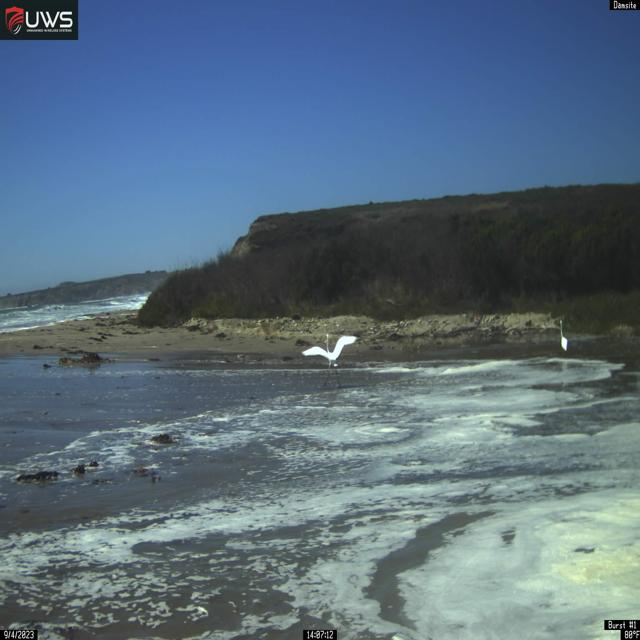bird: (301, 334, 360, 388)
